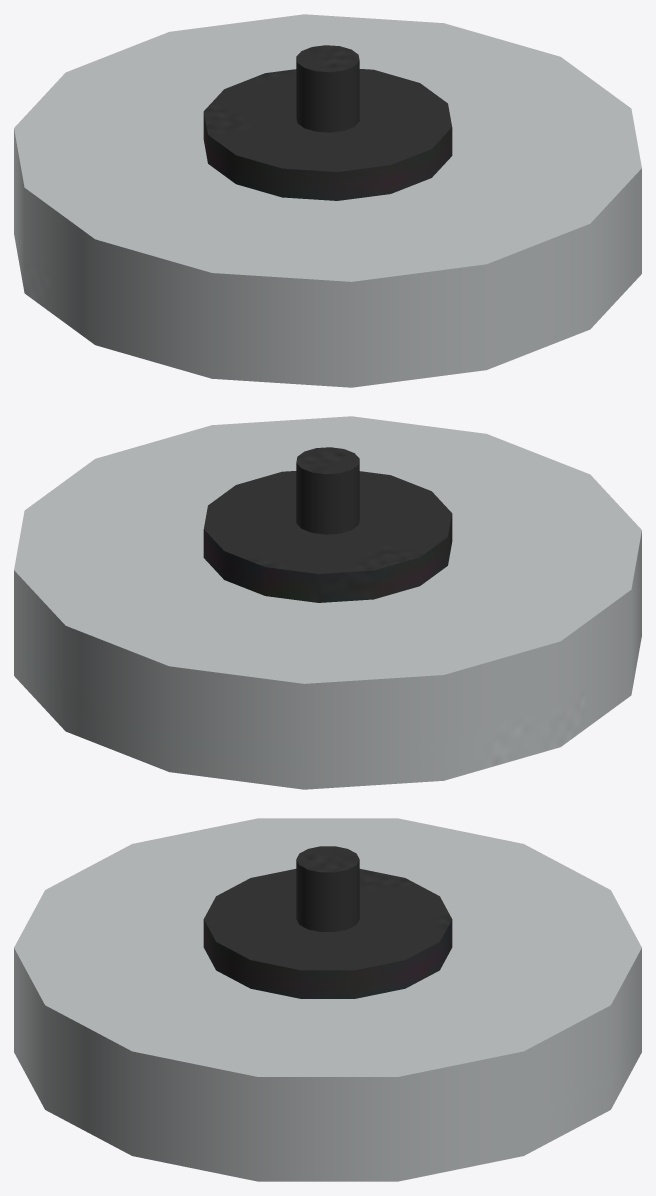
File: tool_lever_pipe_expander_nozzle_07.glb
The picture shows the model from 3 angles, top to bottom: view 1: azimuth 30°, elevation 25°; view 2: azimuth 150°, elevation 25°; view 3: azimuth 270°, elevation 25°; orthographic projection.
Parts seen in each view (by area): view 1: tool_lever_pipe_expander_nozzle_07; view 2: tool_lever_pipe_expander_nozzle_07; view 3: tool_lever_pipe_expander_nozzle_07.
Boxes of the visible parts, bbox=[...] form: tool_lever_pipe_expander_nozzle_07: bbox=[14, 14, 641, 387]; tool_lever_pipe_expander_nozzle_07: bbox=[14, 416, 641, 789]; tool_lever_pipe_expander_nozzle_07: bbox=[14, 818, 641, 1181].
Bounding box in the file's own units: 0.0698 × 0.0243 × 0.0716.
1 material, 1 textured.
